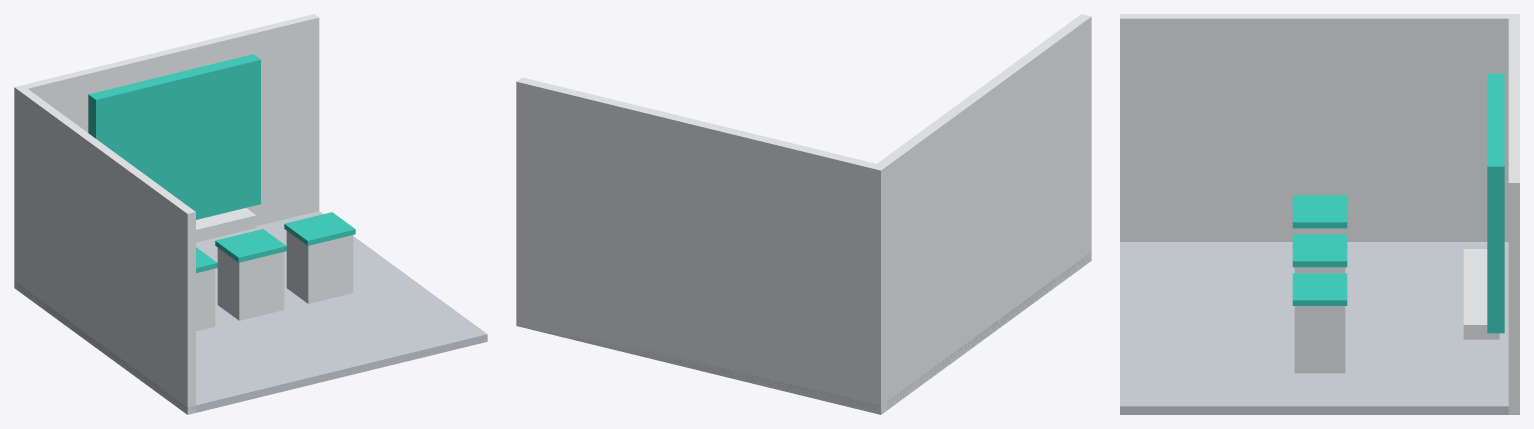
3 views of the same model, side by side, from view 1: azimuth 30°, elevation 25°; view 2: azimuth 150°, elevation 25°; view 3: azimuth 270°, elevation 25° (orthographic). The views are drawn at different scales.
Visible parts, largest first — view 1: Exhibition Booth Concept; view 2: Exhibition Booth Concept; view 3: Exhibition Booth Concept.
Part boxes in pixels (box(x1,y1,x2,y2)): Exhibition Booth Concept: box(14, 14, 487, 414); Exhibition Booth Concept: box(516, 14, 1091, 414); Exhibition Booth Concept: box(1120, 14, 1519, 414).
Bounding box in the file's own units: 5 × 3.2 × 5.
